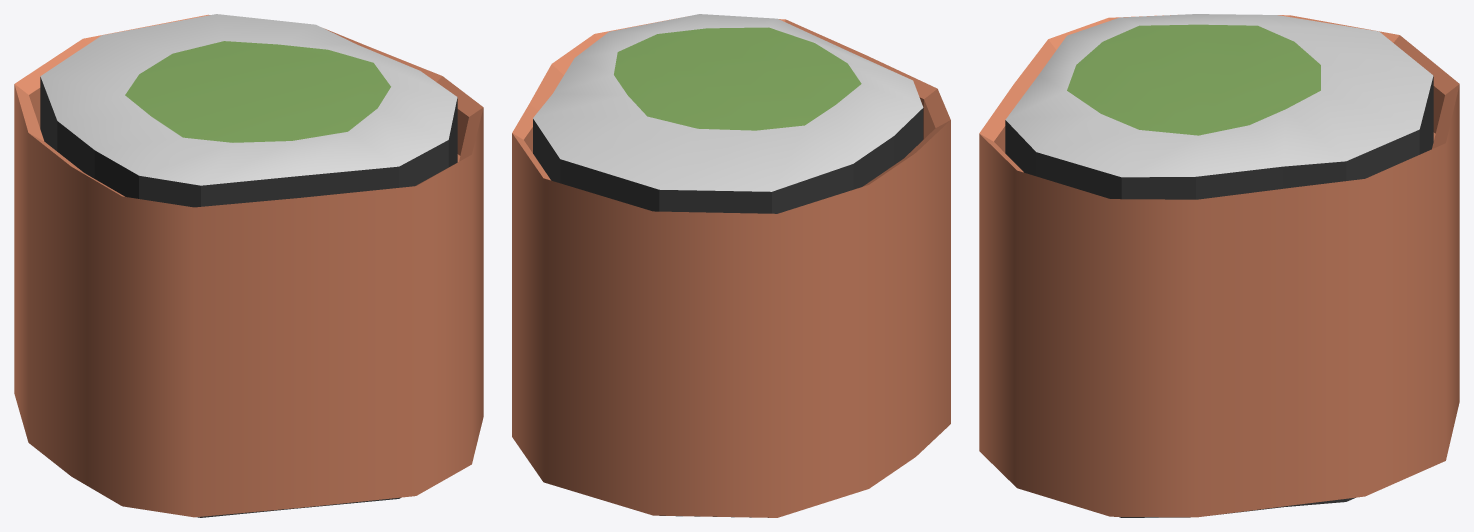
File: Sushi6.fbx
The picture shows the model from 3 angles, left to right: view 1: azimuth 30°, elevation 25°; view 2: azimuth 150°, elevation 25°; view 3: azimuth 270°, elevation 25°; orthographic projection. The views are drawn at different scales.
Parts seen in each view (by area): view 1: sushi6; view 2: sushi6; view 3: sushi6.
Boxes of the visible parts, bbox=[...] form: sushi6: bbox=[14, 14, 483, 517]; sushi6: bbox=[512, 14, 950, 517]; sushi6: bbox=[979, 14, 1459, 517].
Bounding box in the file's own units: 2.81 × 2.57 × 3.07.
